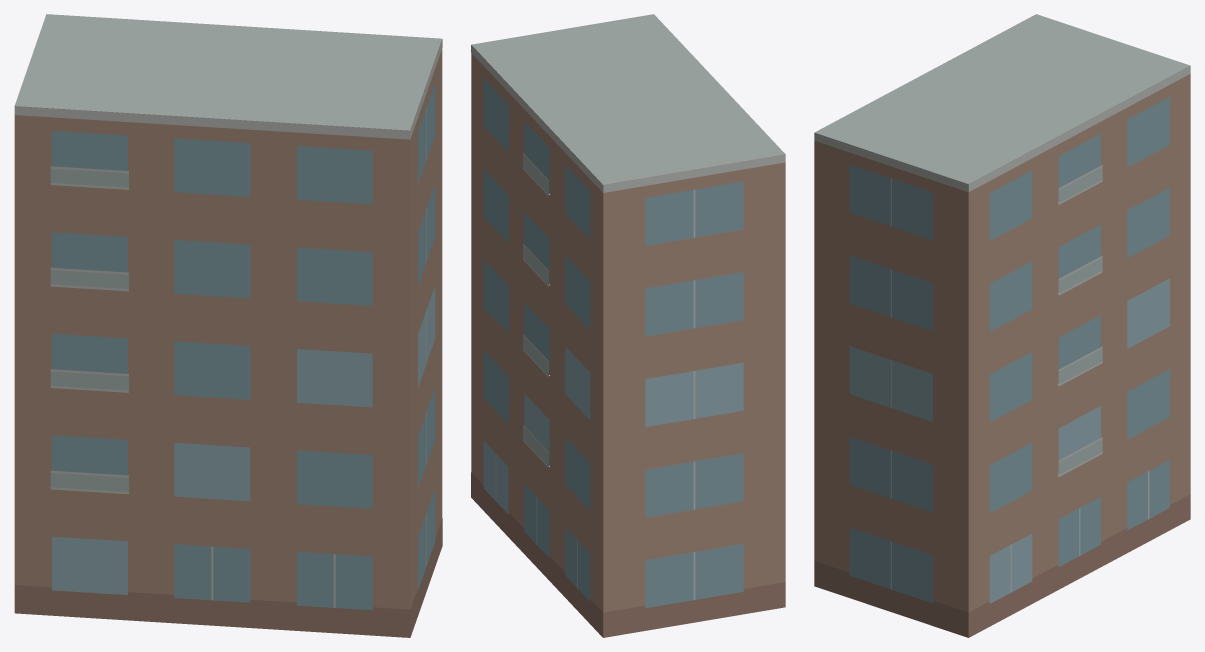
Rendered from survey-upis-32641687.glb.
The picture shows the model from 3 angles, left to right: view 1: azimuth 30°, elevation 25°; view 2: azimuth 150°, elevation 25°; view 3: azimuth 270°, elevation 25°; orthographic projection. The views are drawn at different scales.
Parts seen in each view (by area): view 1: survey-upis-32641687.tmp; view 2: survey-upis-32641687.tmp; view 3: survey-upis-32641687.tmp.
Boxes of the visible parts, x1,y1,x2,y2 form: survey-upis-32641687.tmp: (14,14,442,637); survey-upis-32641687.tmp: (471,14,785,637); survey-upis-32641687.tmp: (814,14,1190,637).
Size of the model in its own units: 11.03 by 13.7 by 10.31.
